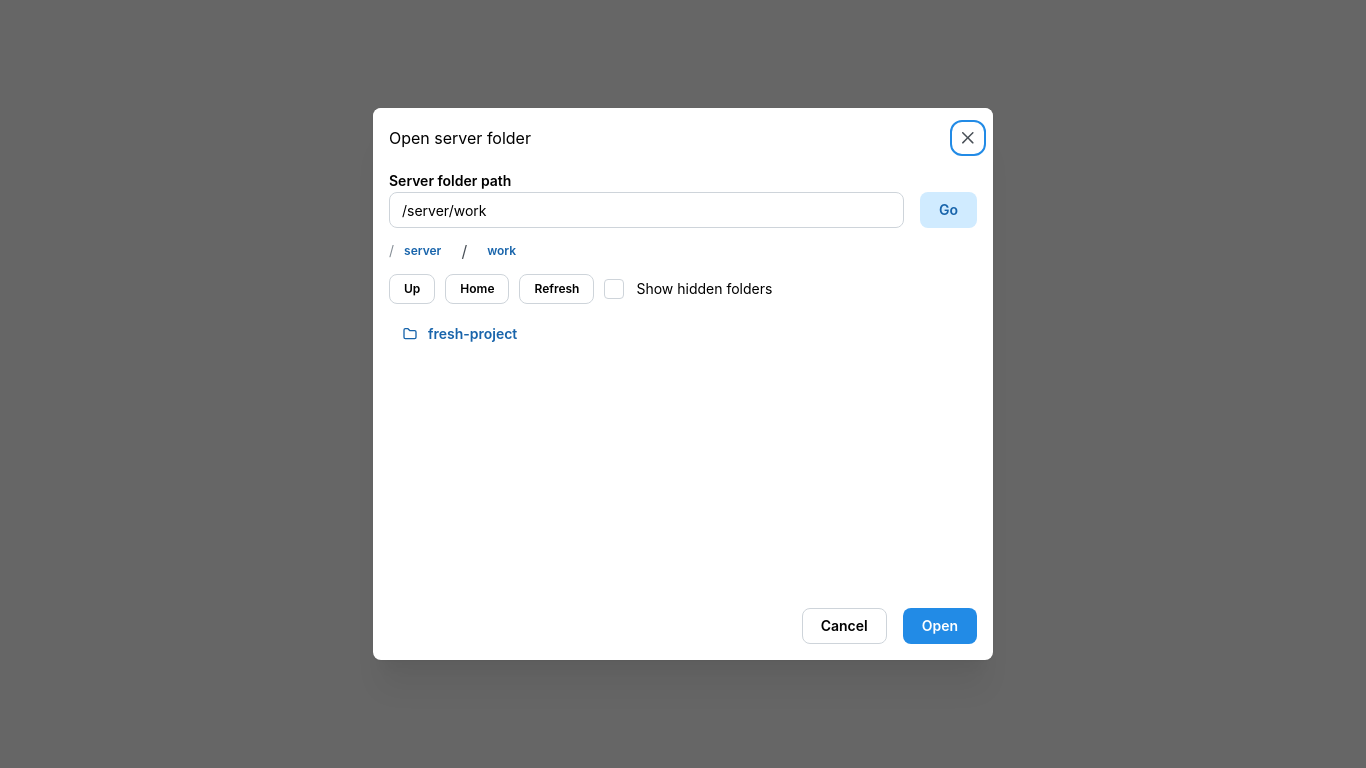
Scenario: server folder picker › does not open the previous folder when an edited path is invalid
Check: the button "fresh-project" is shown, box [389, 316, 977, 352]
Replace the text in the field labelled "Server folder path" with "/missing" at (646, 210), box [389, 192, 904, 228]
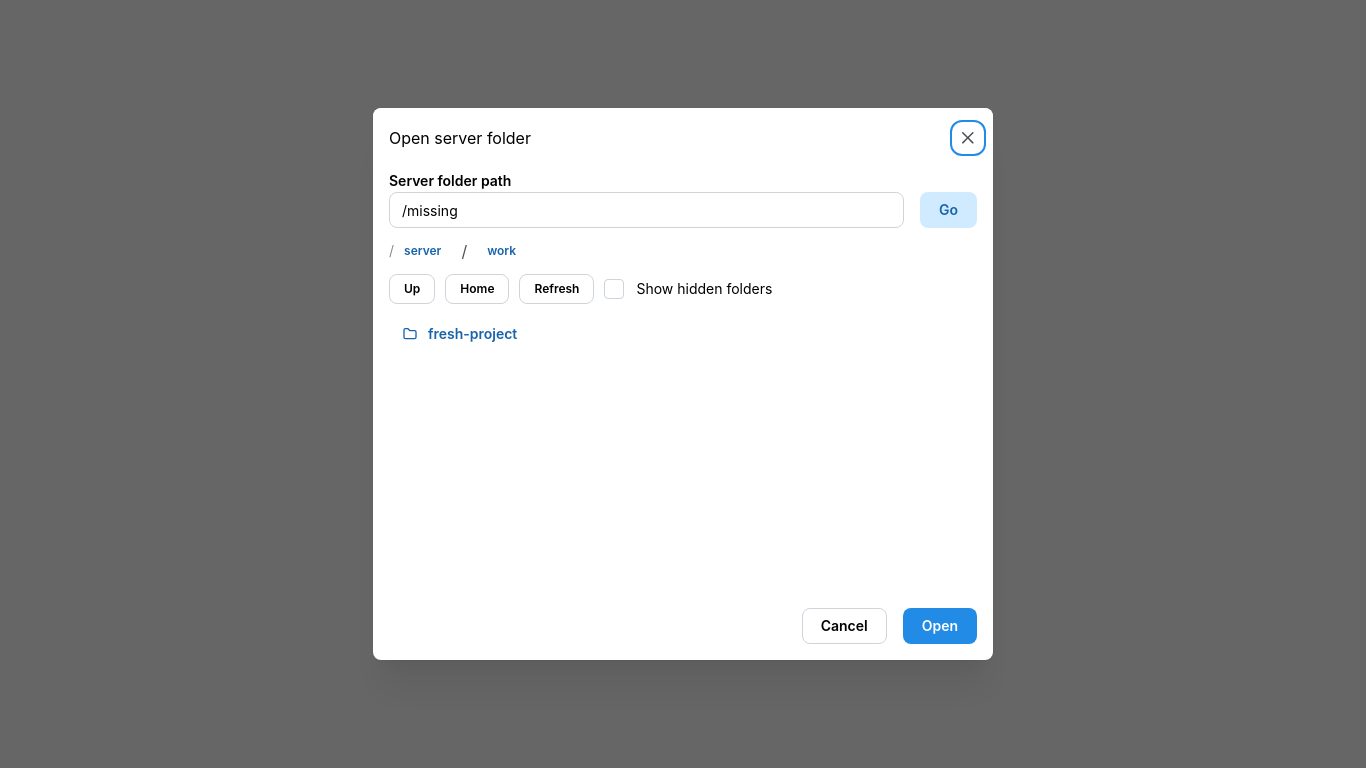
Press Enter in the field labelled "Server folder path", box [389, 192, 904, 228]
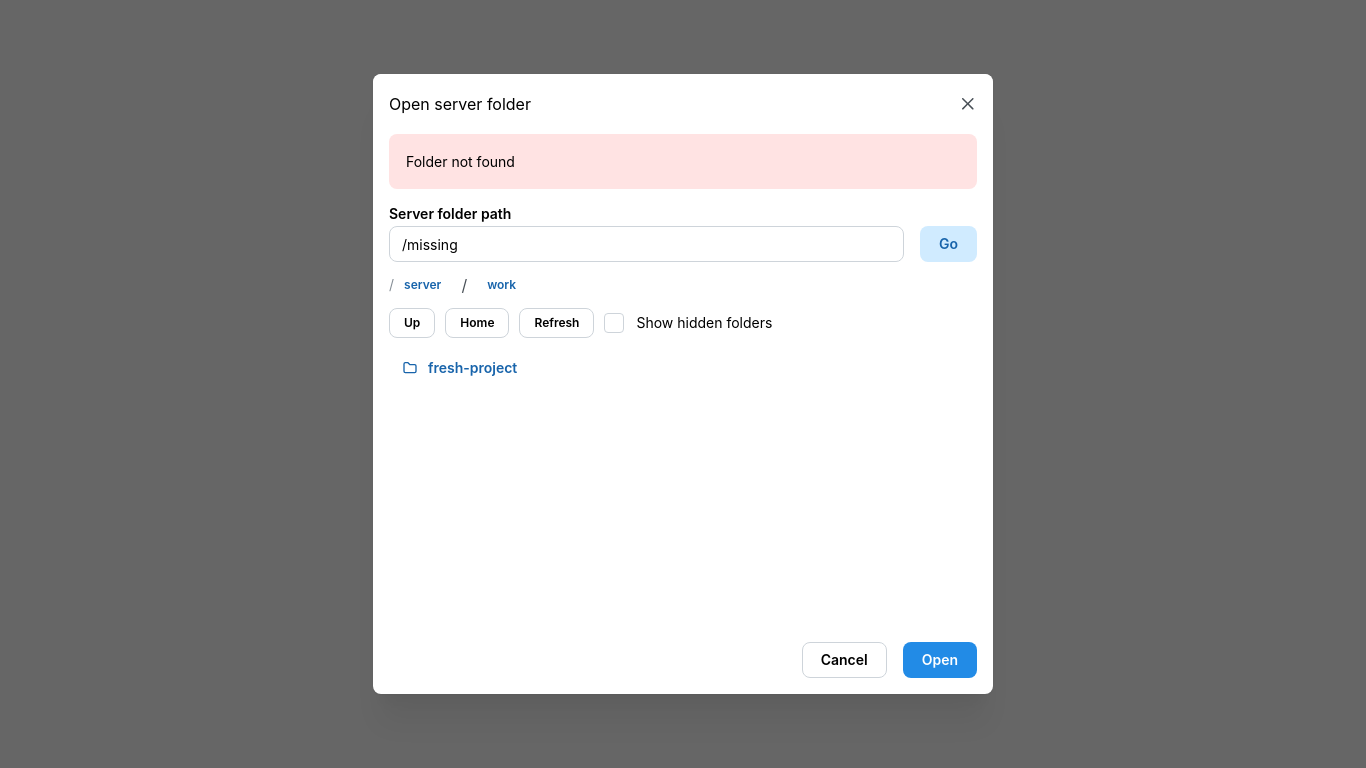
Check: the text "Folder not found" is shown, box [406, 153, 515, 170]
